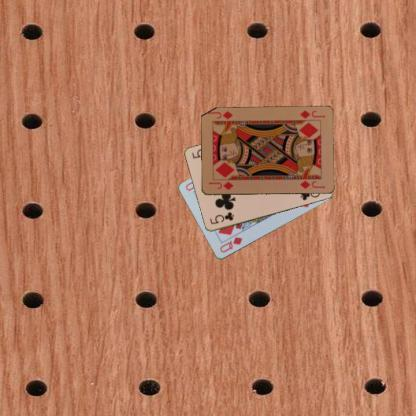5c: (206, 209, 236, 226)
Jd: (206, 179, 235, 191), (297, 108, 326, 120)
Qd: (217, 234, 243, 254)
